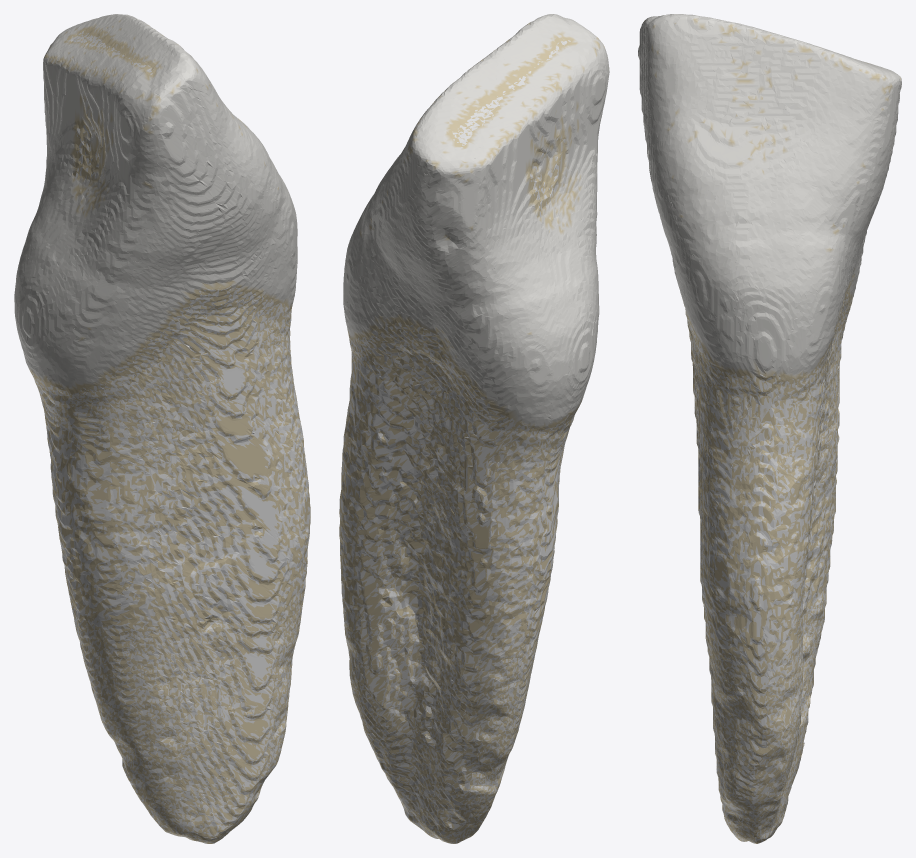
File: scan1.glb
The picture shows the model from 3 angles, left to right: view 1: azimuth 30°, elevation 25°; view 2: azimuth 150°, elevation 25°; view 3: azimuth 270°, elevation 25°; orthographic projection. The views are drawn at different scales.
Parts seen in each view (by area): view 1: externe, dentine; view 2: externe, dentine; view 3: externe, dentine.
Boxes of the visible parts, x1,y1,x2,y2 form: externe: (14,14,310,843); dentine: (32,30,310,843); externe: (339,14,609,843); dentine: (339,39,584,843); externe: (638,14,901,843); dentine: (686,284,851,843).
Bounding box in the file's own units: 0.00632 × 0.0192 × 0.00576.
